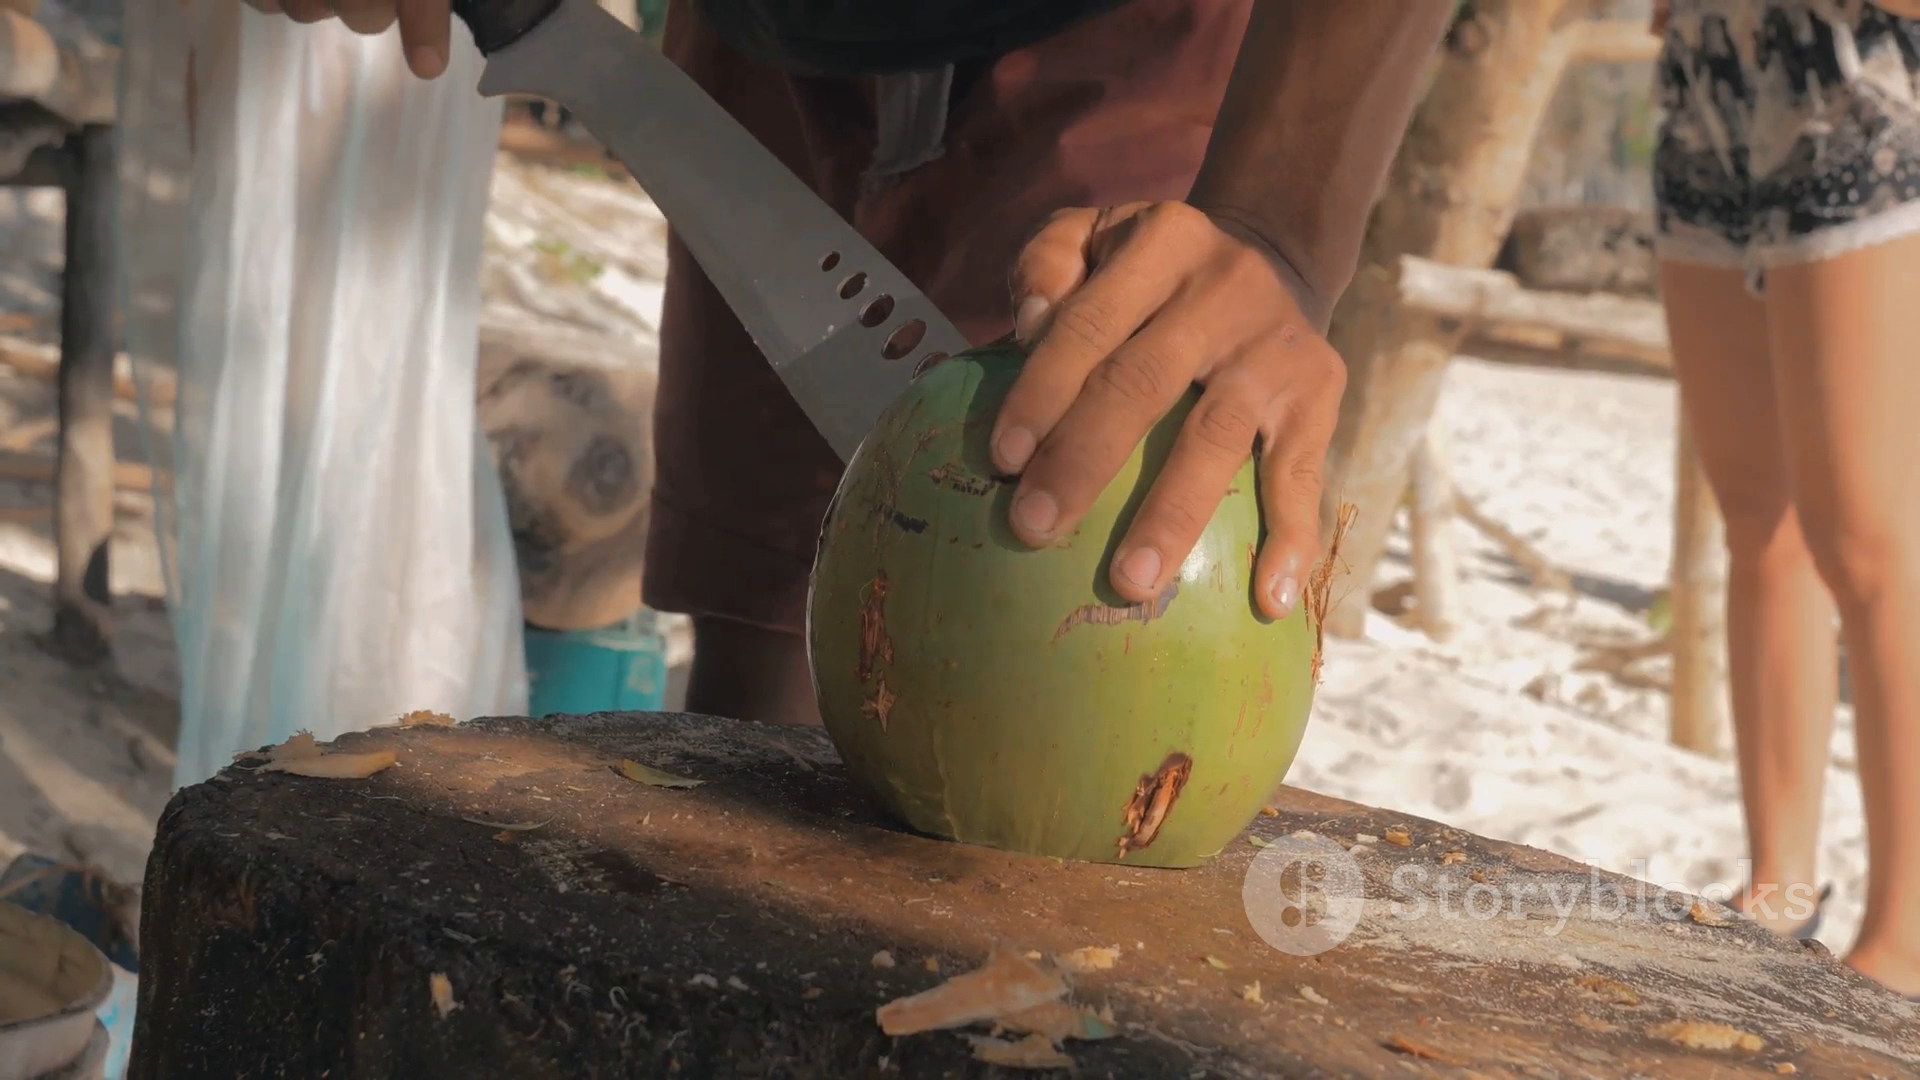cortante: (476, 0, 977, 467)
